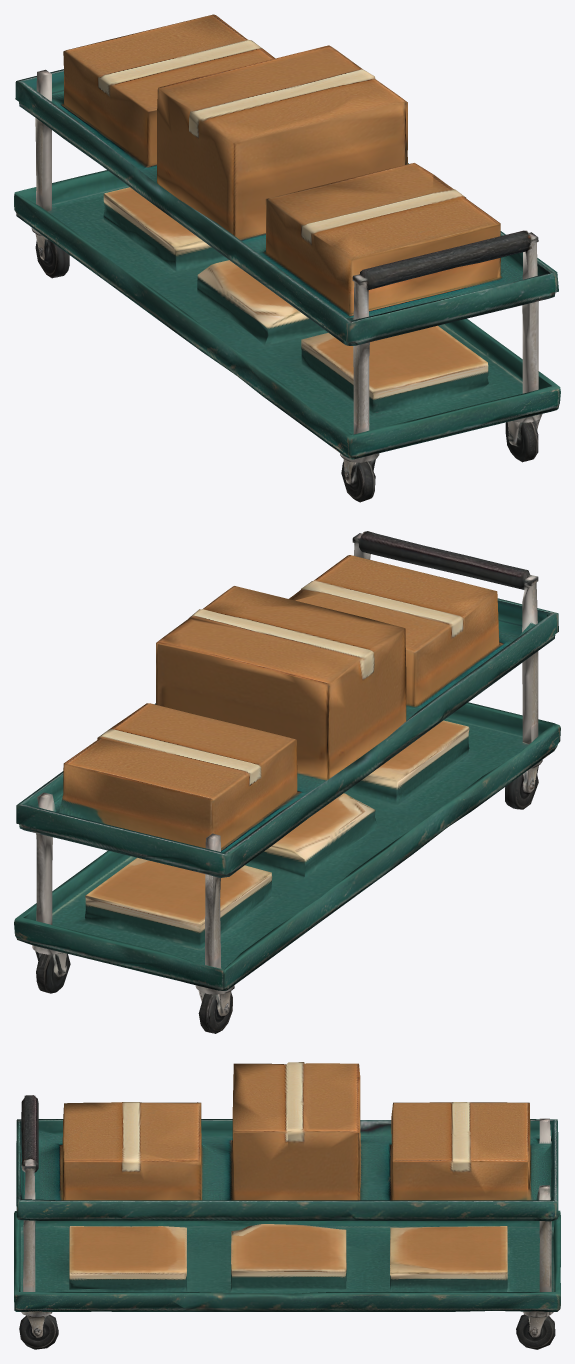
Rendered from DinnerTrolley.fbx.
3 renders of one model, top to bottom at view 1: azimuth 30°, elevation 25°; view 2: azimuth 150°, elevation 25°; view 3: azimuth 270°, elevation 25°, orthographic. The views are drawn at different scales.
Visible parts, largest first — view 1: tripo_node_7b23fa9f-7ded-466c-8b92-b39b4c867001; view 2: tripo_node_7b23fa9f-7ded-466c-8b92-b39b4c867001; view 3: tripo_node_7b23fa9f-7ded-466c-8b92-b39b4c867001.
Boxes of the visible parts, x1,y1,x2,y2 form: tripo_node_7b23fa9f-7ded-466c-8b92-b39b4c867001: (14, 14, 560, 502); tripo_node_7b23fa9f-7ded-466c-8b92-b39b4c867001: (14, 531, 560, 1033); tripo_node_7b23fa9f-7ded-466c-8b92-b39b4c867001: (14, 1062, 560, 1349).
Bounding box in the file's own units: 36.26 × 44.4 × 100.
Materials: 1 (1 with a texture image).
